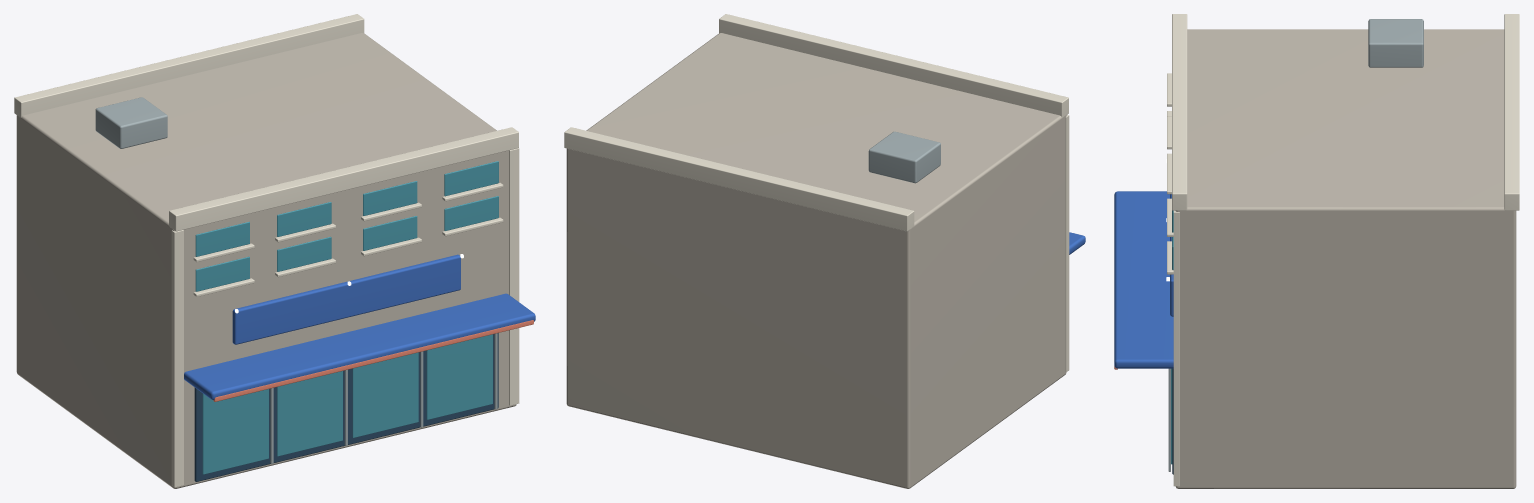
The model's file is HL_Building_BayMarket.fbx.
The picture shows the model from 3 angles, left to right: view 1: azimuth 30°, elevation 25°; view 2: azimuth 150°, elevation 25°; view 3: azimuth 270°, elevation 25°; orthographic projection. The views are drawn at different scales.
Parts seen in each view (by area): view 1: Building | warm concrete shell, Shop | canopy cobalt, Shop | sign backer, Roof | parapet front, Roof | parapet rear, Shop | sea glass pane, Shop | sea glass pane.002, Shop | sea glass pane.003, Shop | sea glass pane.001, Building | ground shop frame, Building | ivory corner L, Roof | service HVAC (+10 smaller); view 2: Building | warm concrete shell, Roof | parapet rear, Roof | parapet front, Roof | service HVAC, Building | ivory corner L; view 3: Building | warm concrete shell, Shop | canopy cobalt, Roof | parapet front, Roof | parapet rear, Roof | service HVAC, Building | ivory corner R.
Boxes of the visible parts, x1=… form: Building | warm concrete shell: x1=16, y1=33, x2=516, y2=488; Shop | canopy cobalt: x1=184, y1=293, x2=535, y2=399; Shop | sign backer: x1=232, y1=254, x2=460, y2=344; Roof | parapet front: x1=169, y1=127, x2=518, y2=231; Roof | parapet rear: x1=14, y1=14, x2=364, y2=117; Shop | sea glass pane: x1=202, y1=389, x2=268, y2=474; Shop | sea glass pane.002: x1=352, y1=352, x2=418, y2=437; Shop | sea glass pane.003: x1=426, y1=334, x2=492, y2=419; Shop | sea glass pane.001: x1=277, y1=371, x2=342, y2=456; Building | ground shop frame: x1=194, y1=333, x2=498, y2=481; Building | ivory corner L: x1=171, y1=230, x2=183, y2=487; Roof | service HVAC: x1=95, y1=97, x2=167, y2=148; Building | warm concrete shell: x1=566, y1=33, x2=1066, y2=488; Roof | parapet rear: x1=564, y1=127, x2=914, y2=231; Roof | parapet front: x1=719, y1=14, x2=1068, y2=117; Roof | service HVAC: x1=868, y1=131, x2=940, y2=183; Building | ivory corner L: x1=1065, y1=114, x2=1069, y2=372; Building | warm concrete shell: x1=1175, y1=29, x2=1516, y2=488; Shop | canopy cobalt: x1=1114, y1=191, x2=1173, y2=368; Roof | parapet front: x1=1172, y1=14, x2=1187, y2=210; Roof | parapet rear: x1=1504, y1=14, x2=1519, y2=210; Roof | service HVAC: x1=1368, y1=19, x2=1423, y2=67; Building | ivory corner R: x1=1173, y1=210, x2=1179, y2=486.
Size of the model in its own units: 1004 by 805 by 951.
